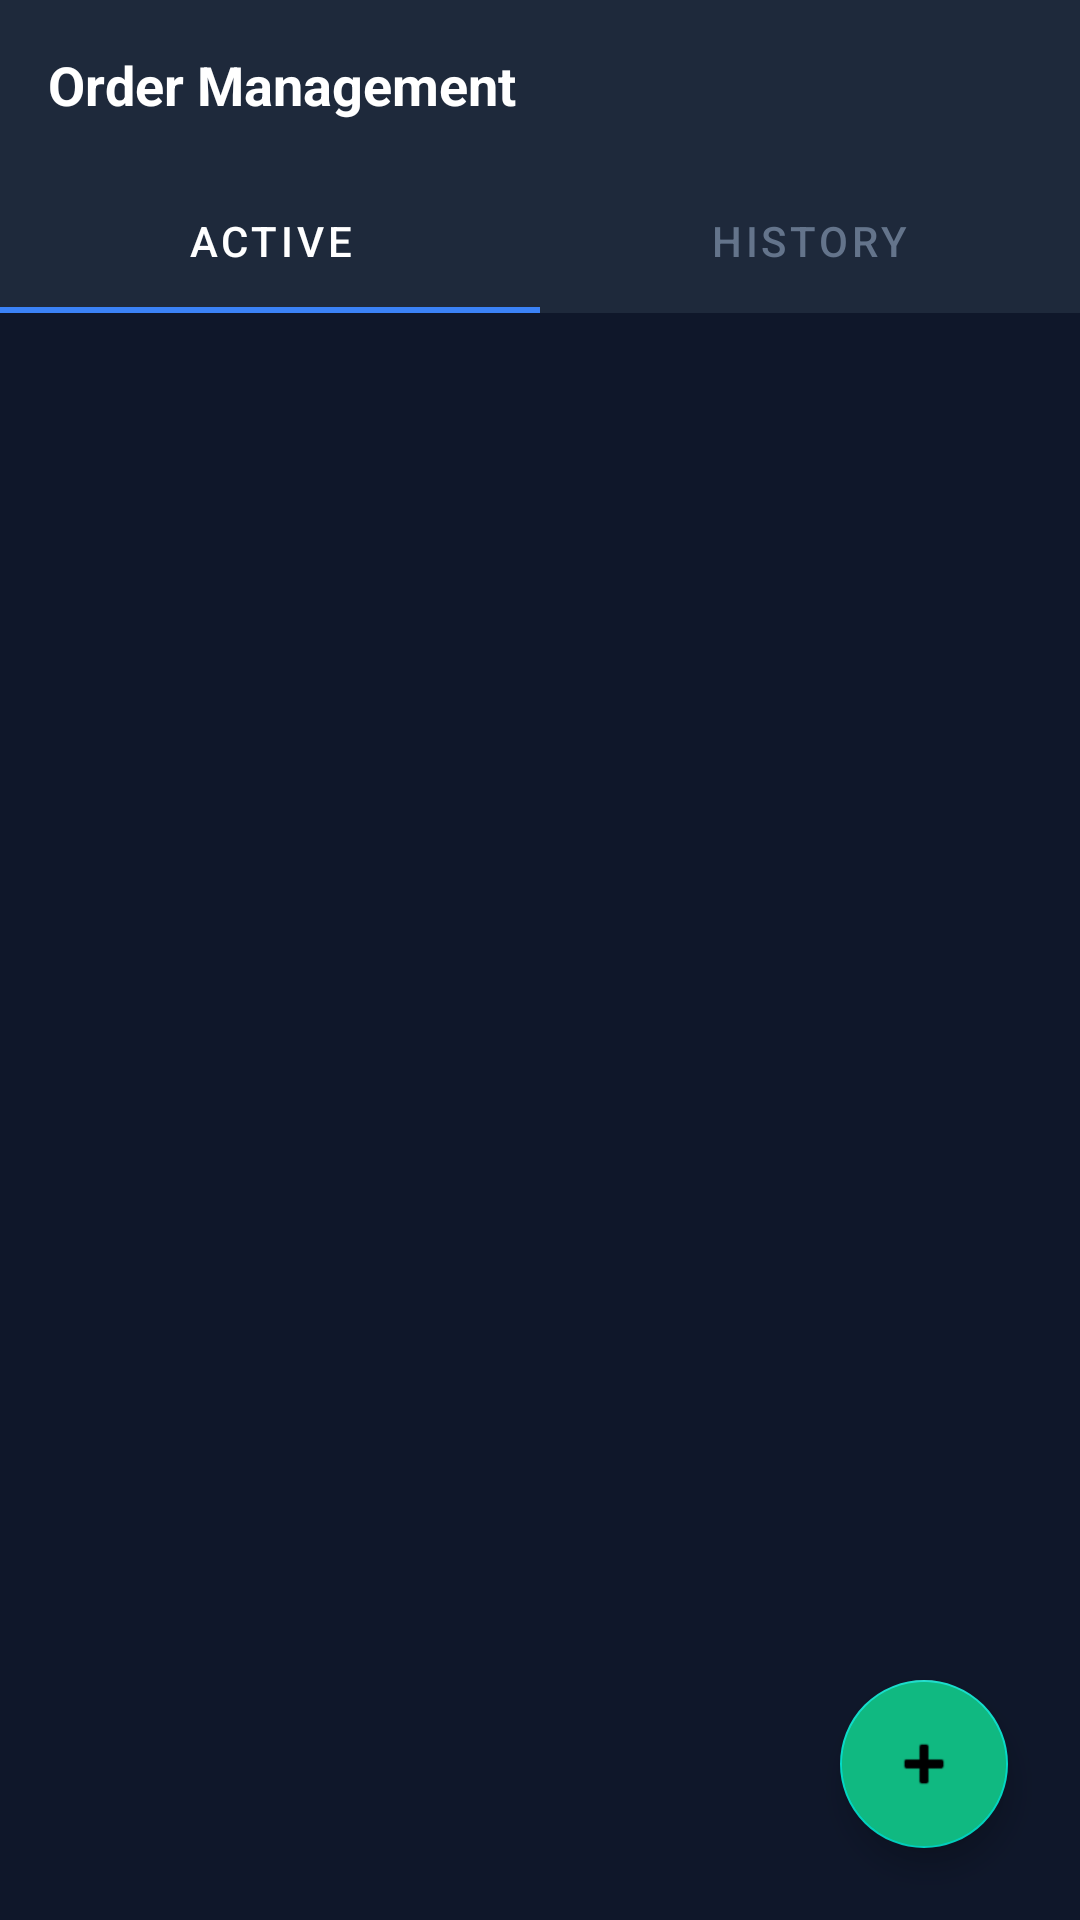

Locate icon controls on the screen. Image size 1080w x 1920h, boxes as (x1, y1, x2, y2).
Create Order: (840, 1680, 1008, 1848)
